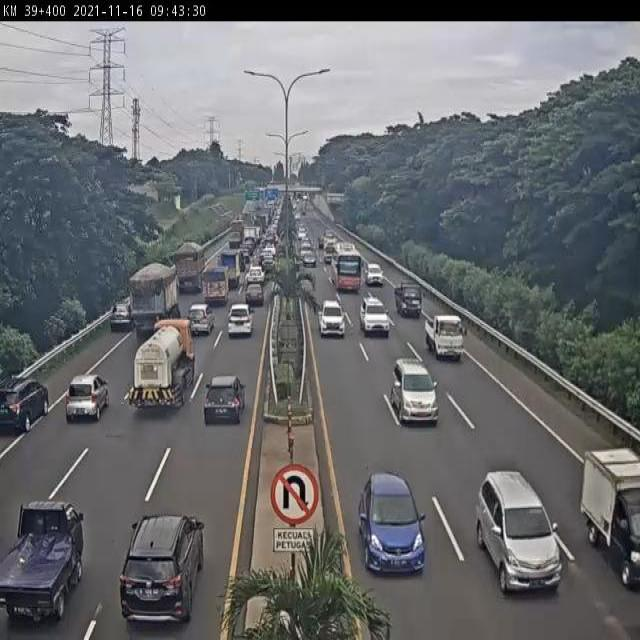big bus: (329, 240, 363, 293)
car: (116, 512, 206, 640), (1, 497, 81, 640), (477, 470, 563, 594), (360, 473, 426, 575), (390, 356, 438, 425), (0, 376, 51, 440), (61, 373, 110, 428), (202, 372, 247, 429), (425, 313, 466, 364), (359, 296, 392, 339), (318, 298, 347, 338), (187, 302, 217, 338), (393, 279, 420, 317), (104, 305, 132, 339), (228, 304, 253, 340), (244, 283, 266, 312), (364, 262, 383, 286)
small truck: (580, 448, 640, 593), (200, 263, 229, 308)
truck-m-: (125, 316, 195, 417), (130, 262, 180, 338), (173, 241, 208, 295)
